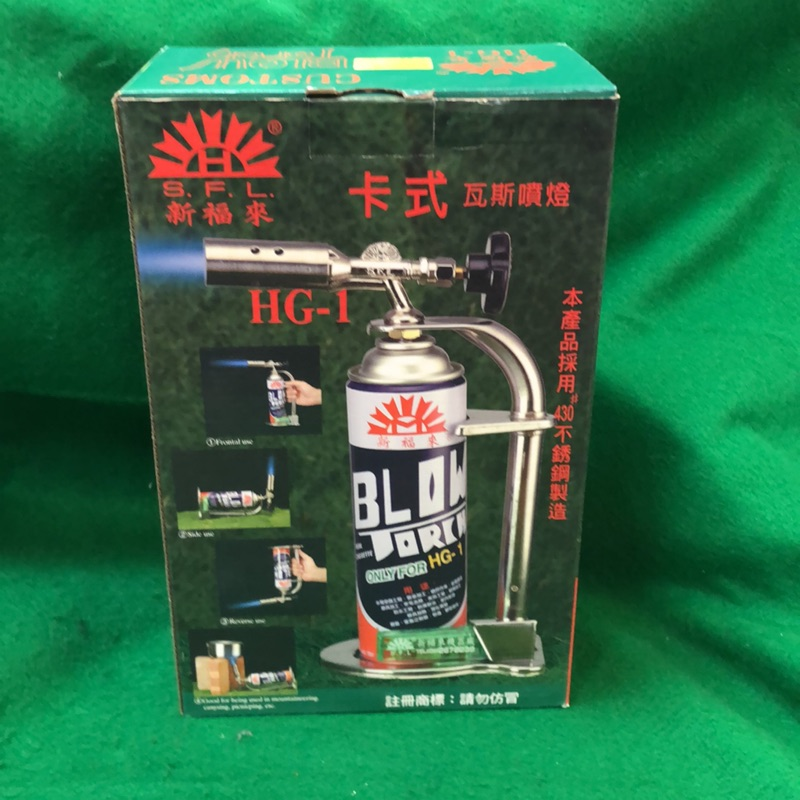gastorch: (204, 231, 545, 675), (193, 473, 279, 527), (244, 357, 296, 427), (256, 541, 303, 611), (233, 664, 285, 696)
